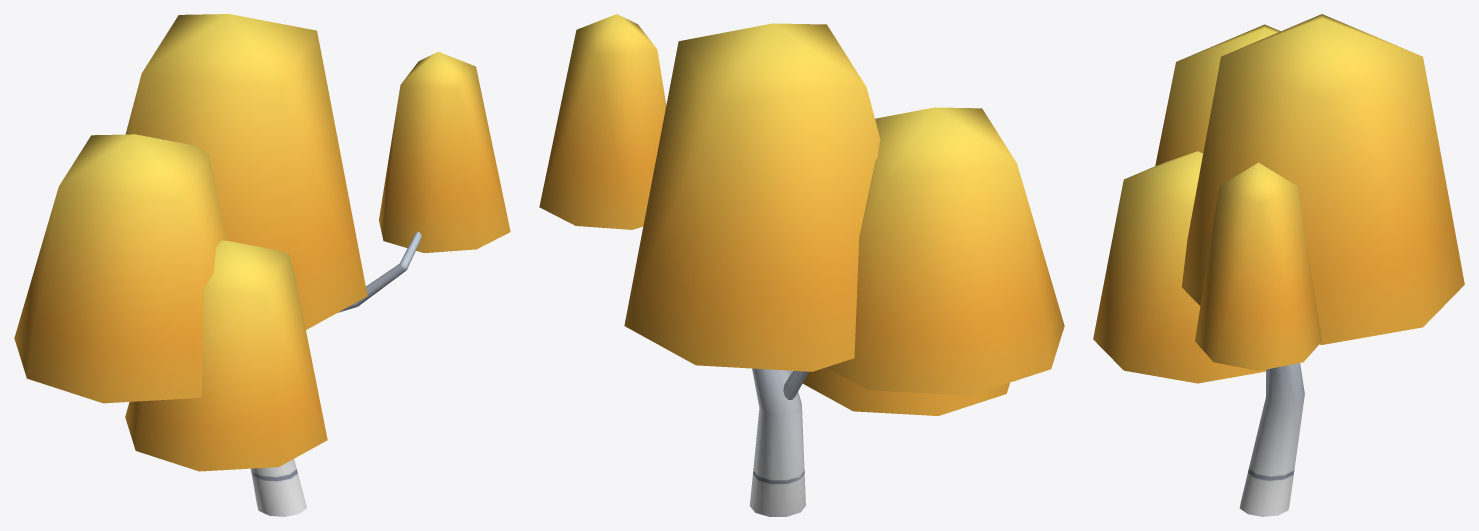
The model's file is Low_Poly_Forest_treeBlob01.glb.
3 renders of one model, left to right at view 1: azimuth 30°, elevation 25°; view 2: azimuth 150°, elevation 25°; view 3: azimuth 270°, elevation 25°, orthographic. The views are drawn at different scales.
Visible parts, largest first — view 1: leaf, leaf_4, leaf_2, leaf_3, bark; view 2: leaf_4, leaf, leaf_3, bark, leaf_2; view 3: leaf_4, leaf_3, leaf_2, bark, leaf.
Part boxes in pixels (x1,y1,x2,y2): leaf: [14, 134, 227, 403]; leaf_4: [125, 14, 367, 329]; leaf_2: [125, 240, 327, 471]; leaf_3: [379, 51, 510, 252]; bark: [251, 231, 421, 516]; leaf_4: [624, 23, 880, 371]; leaf: [826, 107, 1064, 395]; leaf_3: [539, 14, 666, 229]; bark: [749, 368, 808, 516]; leaf_2: [802, 367, 1009, 415]; leaf_4: [1182, 14, 1464, 344]; leaf_3: [1195, 162, 1321, 370]; leaf_2: [1093, 151, 1265, 383]; bark: [1239, 363, 1304, 516]; leaf: [1155, 24, 1280, 165].
Size of the model in its own units: 7.72 by 7.39 by 5.23.
1 material, 1 textured.
